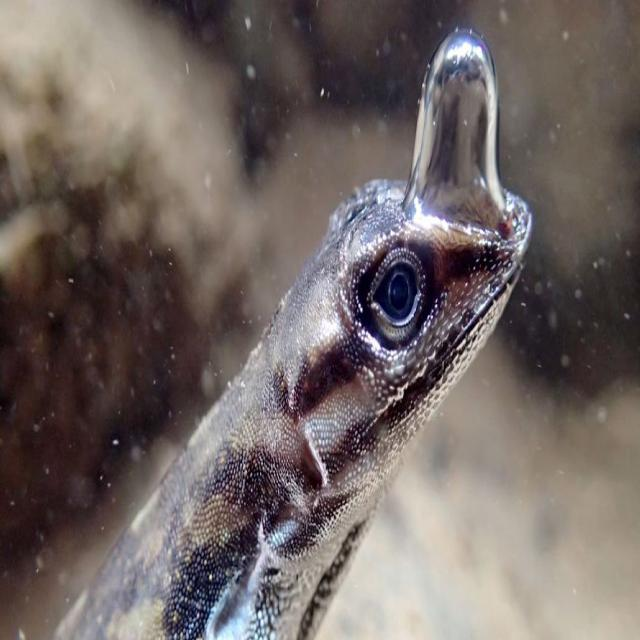Lizard: (74, 173, 536, 640)
